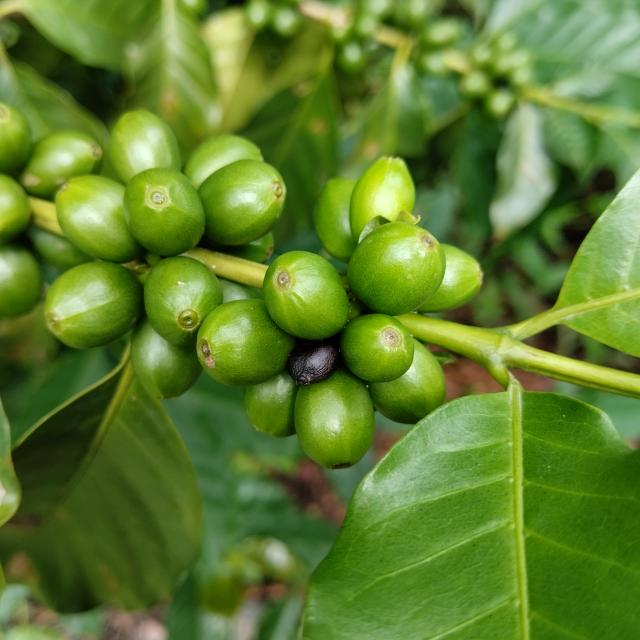green: (348, 221, 446, 316), (197, 299, 296, 387), (43, 262, 142, 349), (294, 366, 375, 470), (262, 250, 349, 340), (54, 174, 141, 262), (198, 159, 286, 245), (122, 167, 205, 256), (143, 256, 222, 346), (369, 339, 446, 424), (130, 318, 202, 398), (349, 156, 415, 240), (108, 109, 181, 184), (339, 314, 415, 383), (418, 244, 484, 312), (183, 134, 263, 188), (243, 371, 299, 438), (313, 177, 357, 262)
red: (287, 339, 340, 386)
